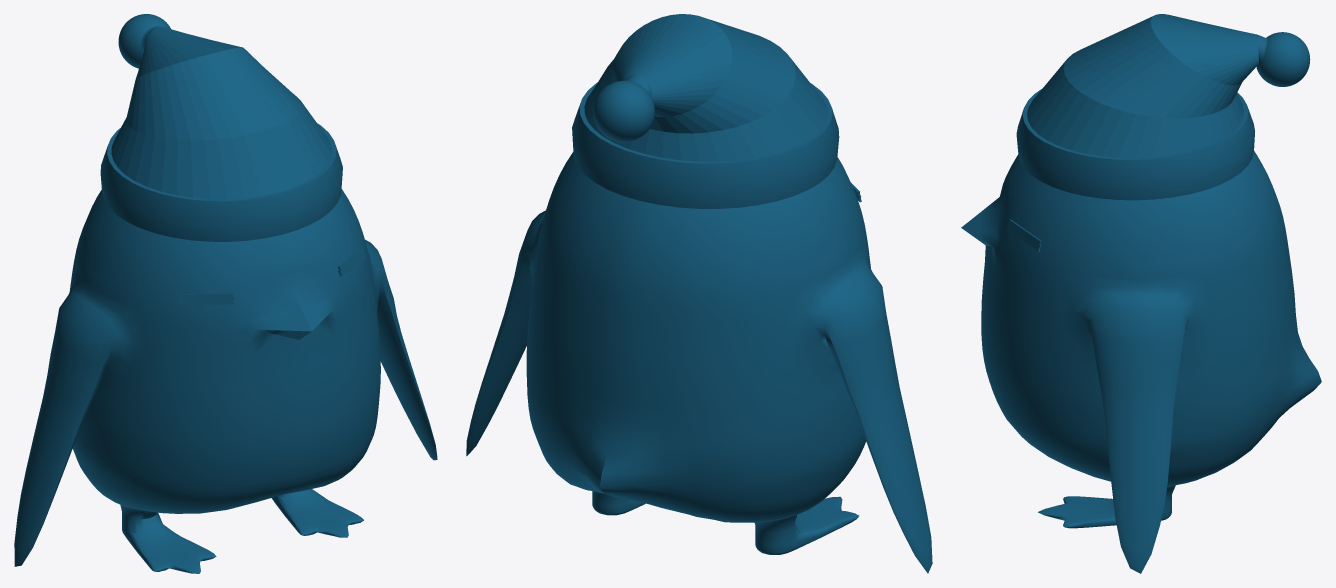
File: penguin_blue_idle_03f.fbx
3 views of the same model, side by side, from view 1: azimuth 30°, elevation 25°; view 2: azimuth 150°, elevation 25°; view 3: azimuth 270°, elevation 25° (orthographic). The views are drawn at different scales.
Visible parts, largest first — view 1: ppp_3, bousi, ai; view 2: ppp_3, bousi; view 3: ppp_3, bousi.
Boxes of the visible parts, <box> form: ppp_3: <box>14,189,437,573</box>; bousi: <box>100,14,342,241</box>; ai: <box>178,248,365,305</box>; ppp_3: <box>466,152,932,573</box>; bousi: <box>572,14,839,208</box>; ppp_3: <box>961,151,1321,573</box>; bousi: <box>1016,14,1310,200</box>.
Size of the model in its own units: 18.99 by 20.12 by 14.41.
1 material, 1 textured.
